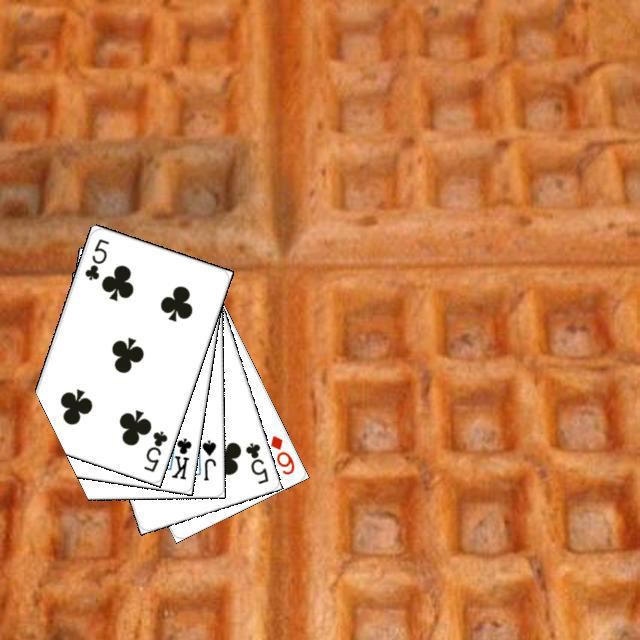5c: (80, 234, 111, 282), (240, 437, 270, 486), (139, 426, 169, 474)
6d: (265, 430, 296, 477)
Js: (197, 435, 218, 482)
Kc: (163, 427, 193, 481)
